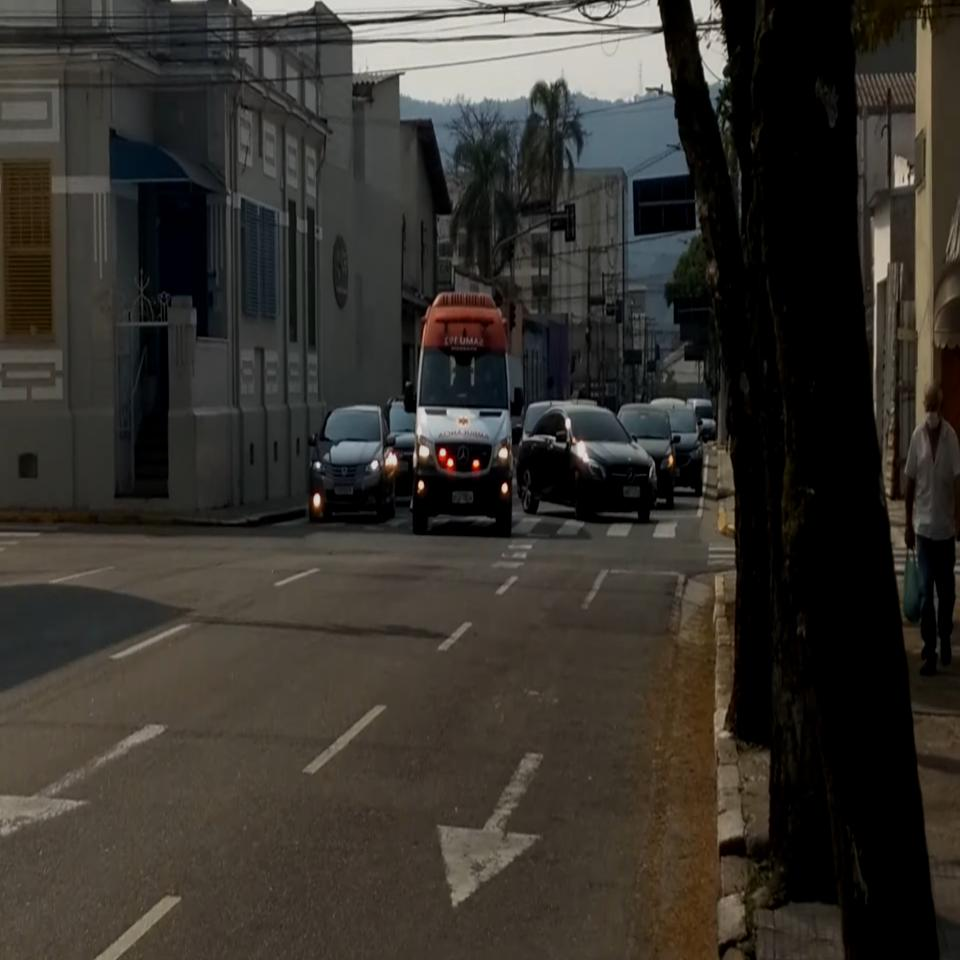ambulancia: (403, 286, 525, 536)
